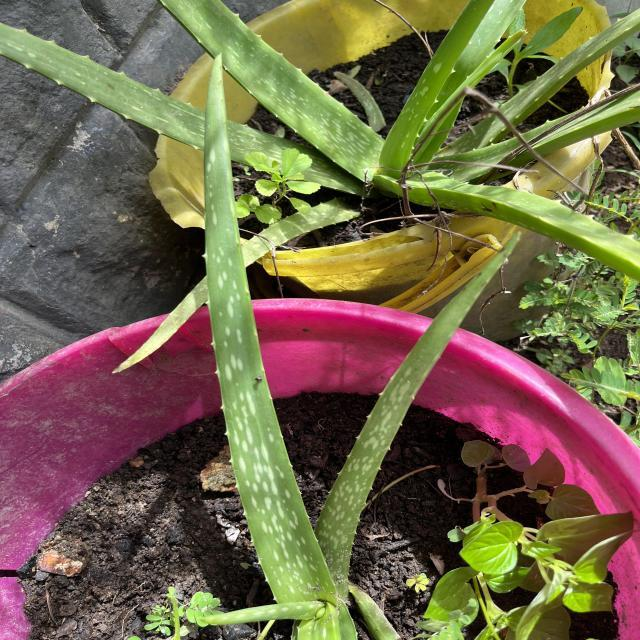Aloe vera: (202, 45, 338, 609)
